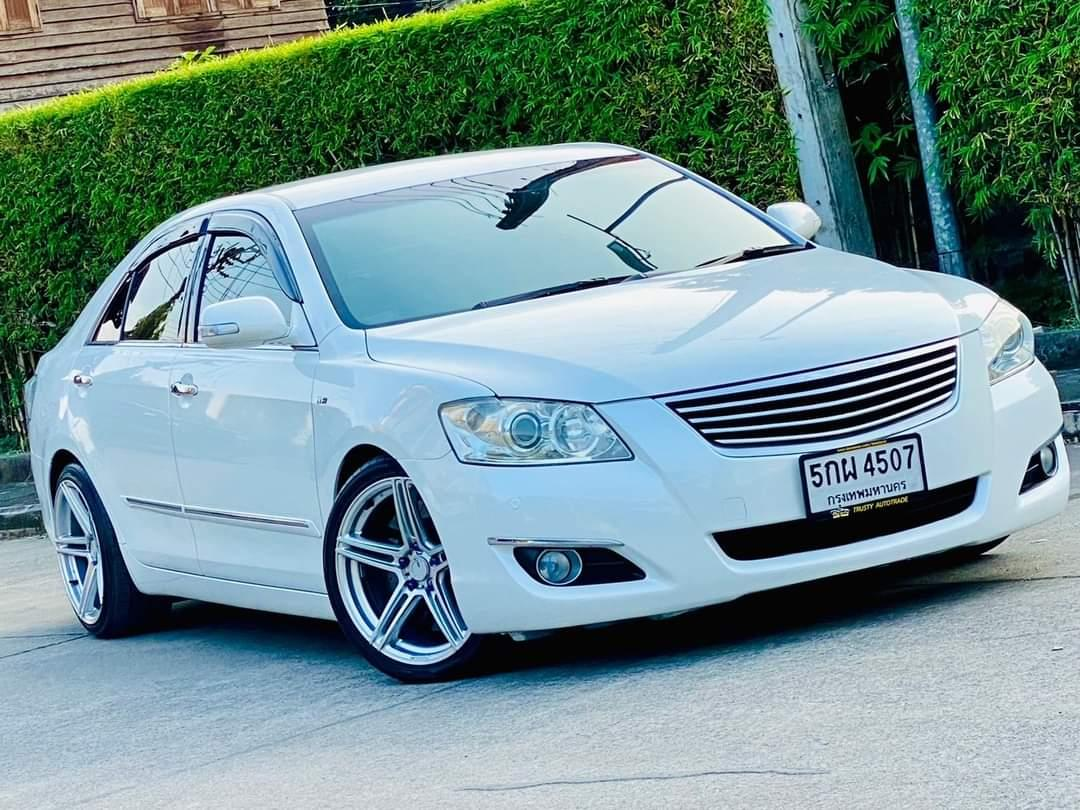license-plate: (797, 425, 932, 523)
